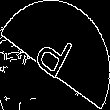P_SW: (31, 24, 79, 86)
